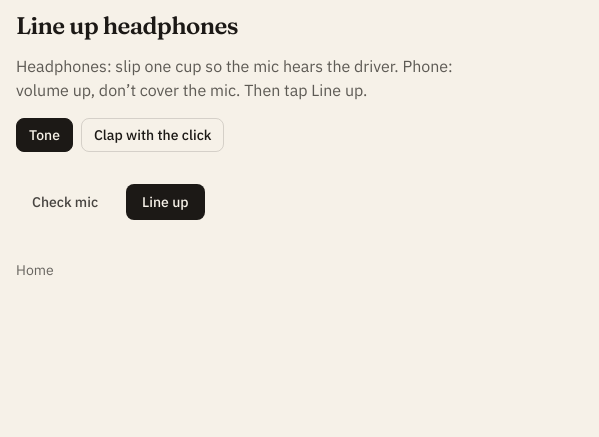
Test: CalibrationPage › clap failure shows lock copy and type-ms
Click the button "Clap with the click": click(153, 135) [81, 118, 224, 152]
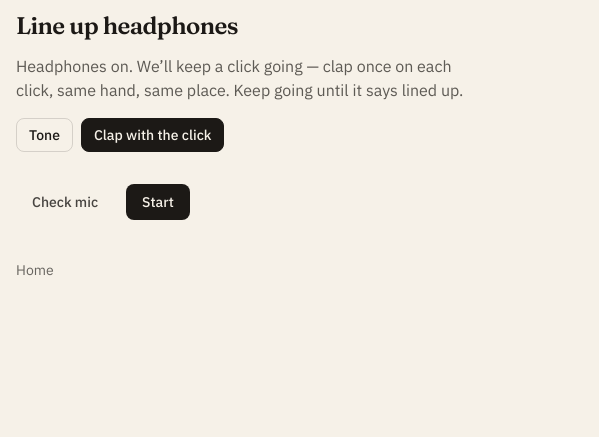
Click the button "Start": click(158, 202) [126, 184, 190, 220]
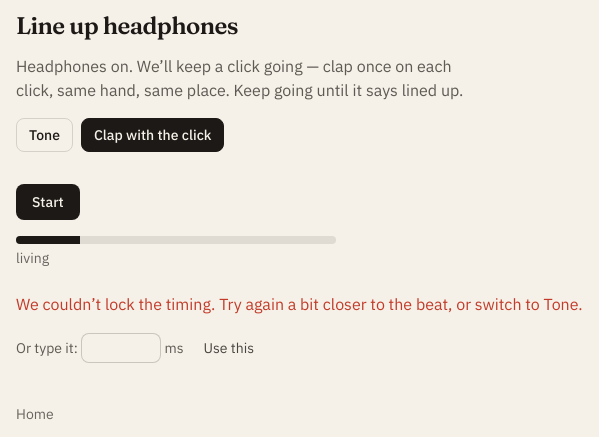
Result: the message shows "couldn.t lock the timing" at [16, 294, 582, 314]
Result: the message shows "switch to Tone" at [16, 294, 582, 314]
Result: the number field labelled "Or type it: ms" is shown at [81, 333, 161, 363]
